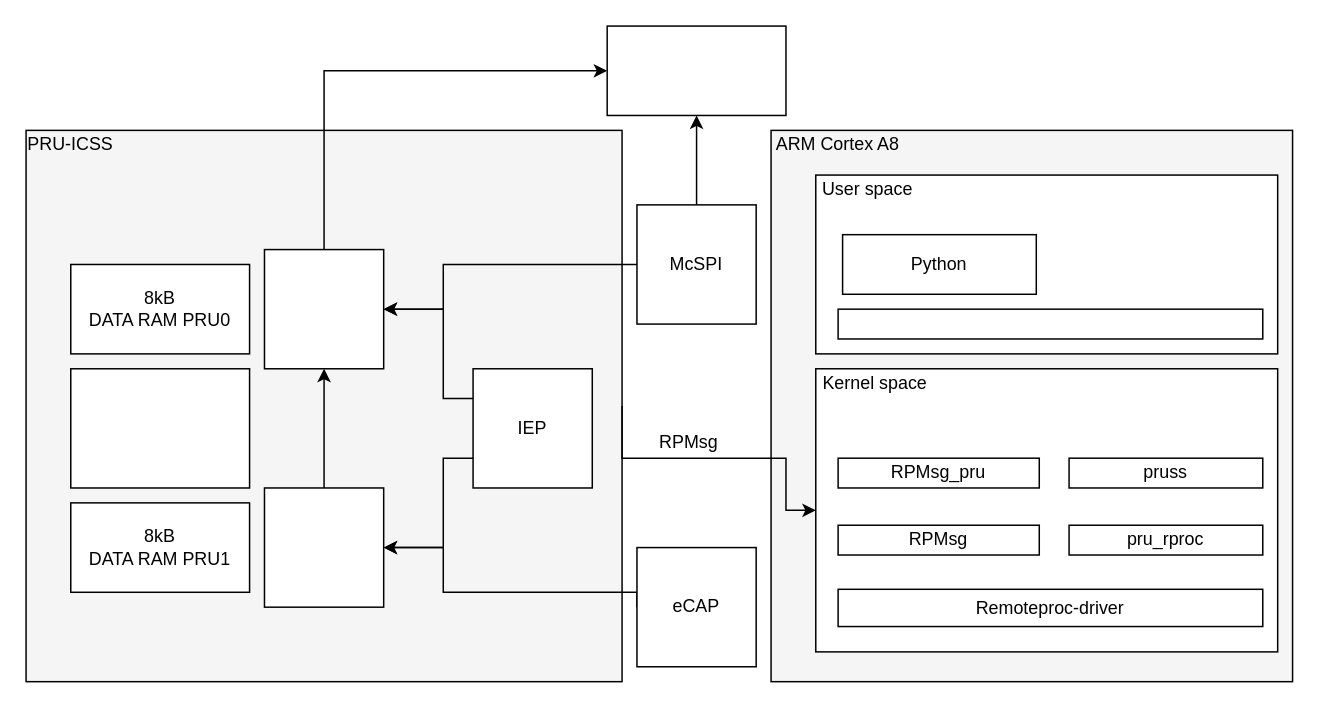
Image size: 1319x708. Some labels were removed from this diagram. The centre of each missing label's shape, as x and y in pixels:
"/dev/Lock-in_amplifier" goes at (x=1050, y=323).
"12kB SHARED RAM" goes at (x=159, y=427).
"LTC1859" goes at (x=696, y=70).
"PRU0 Lock-in Amplifier" goes at (x=323, y=308).
"PRU1 Numerically Controlled Oscillator" goes at (x=323, y=546).
